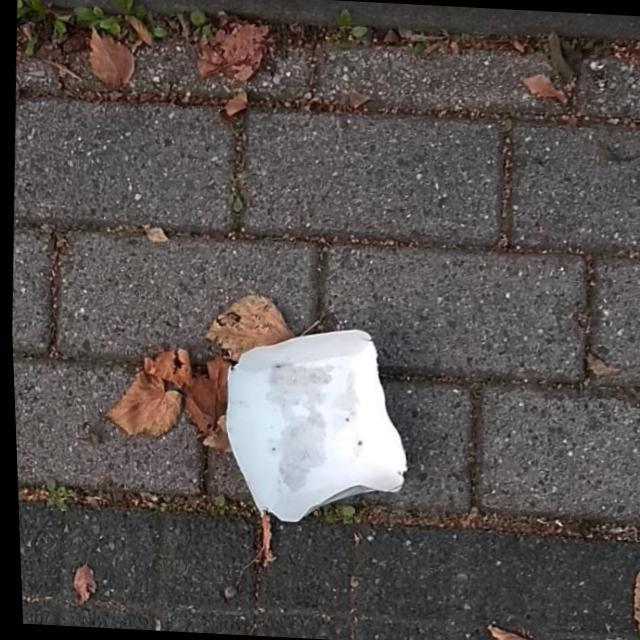Paper: (211, 320, 415, 532)
